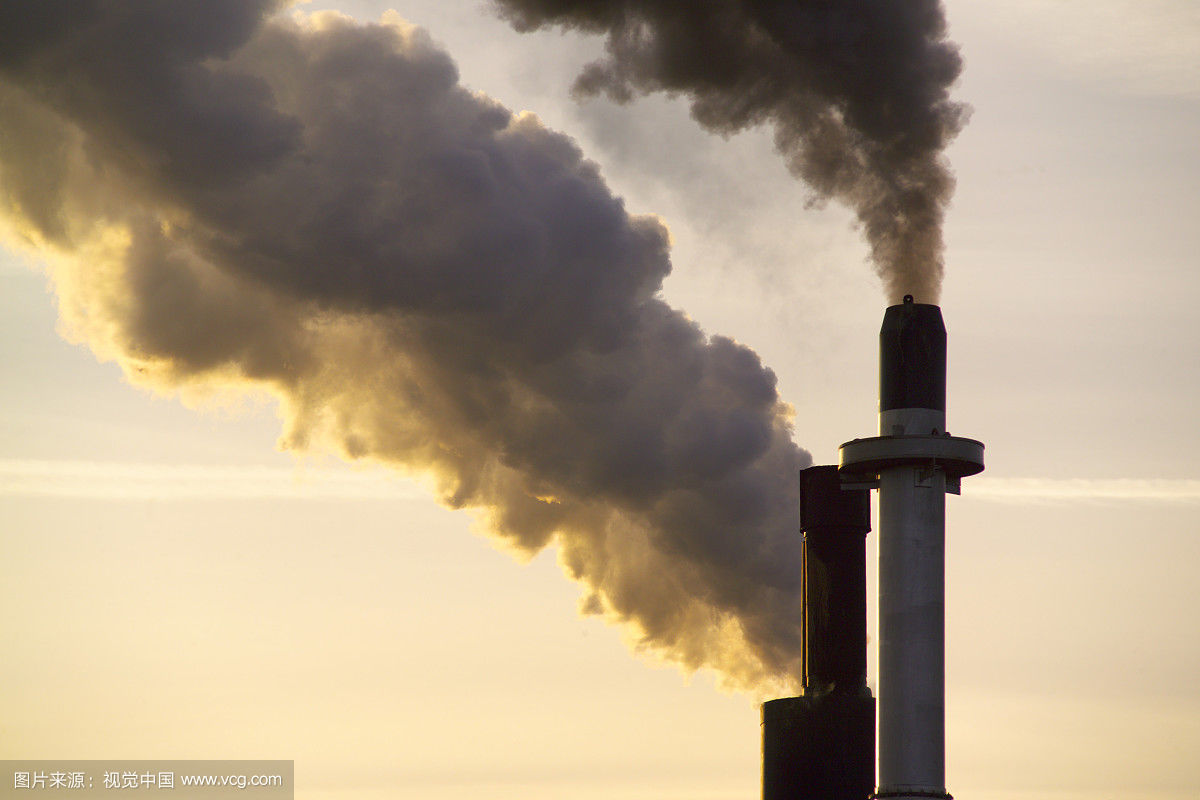dust: (440, 324, 867, 718), (739, 39, 1019, 339)
